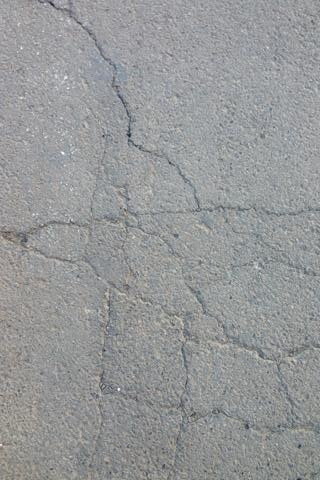A: (2, 1, 319, 472)
